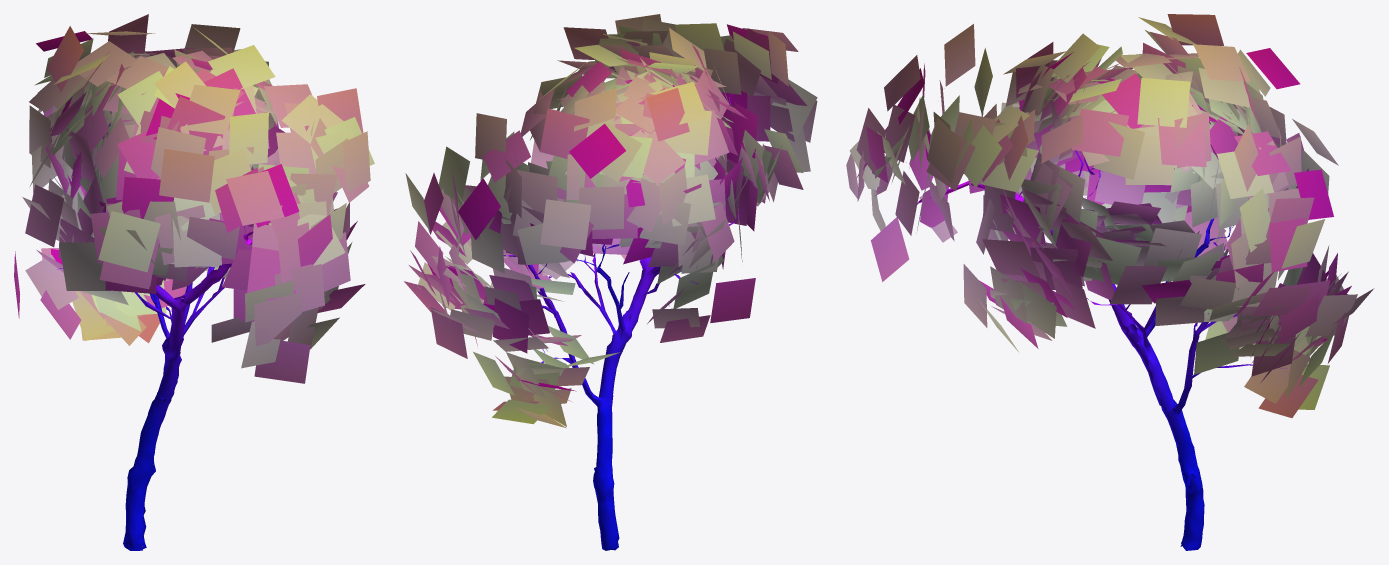
File: broadleaf_a_LODs.glb
3 views of the same model, side by side, from view 1: azimuth 30°, elevation 25°; view 2: azimuth 150°, elevation 25°; view 3: azimuth 270°, elevation 25° (orthographic). The views are drawn at different scales.
Visible parts, largest first — view 1: broadleaf_a_LOD0; view 2: broadleaf_a_LOD0; view 3: broadleaf_a_LOD0.
Part boxes in pixels (left/top/right/bottom): broadleaf_a_LOD0: left=14, top=14, right=374, bottom=550; broadleaf_a_LOD0: left=404, top=14, right=817, bottom=550; broadleaf_a_LOD0: left=846, top=14, right=1374, bottom=550.
Size of what is drawn, in the model's own units: 6.71 by 10.24 by 9.67.
